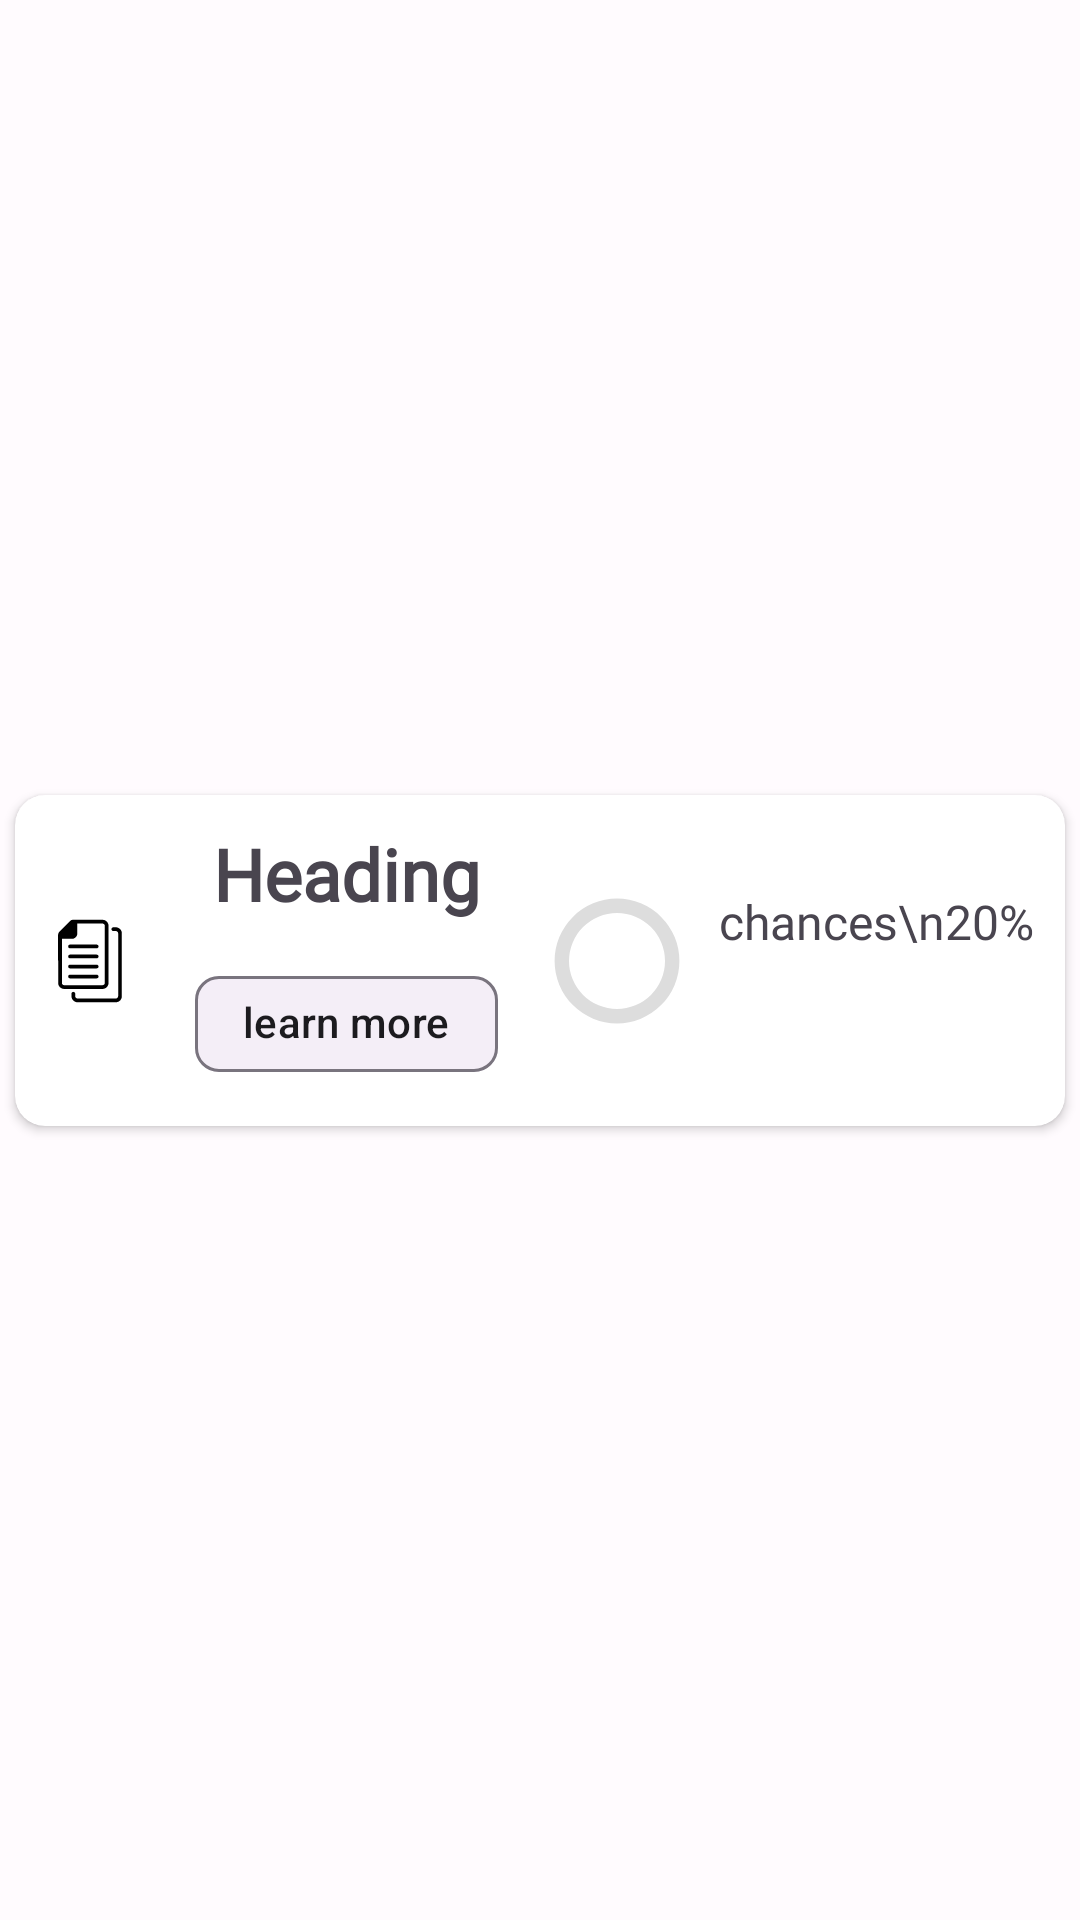

Icon bounding boxes for this 1080*1920 phone screenshot, format (x1, y1, x2, y2):
documents: (58, 919, 122, 1003)
